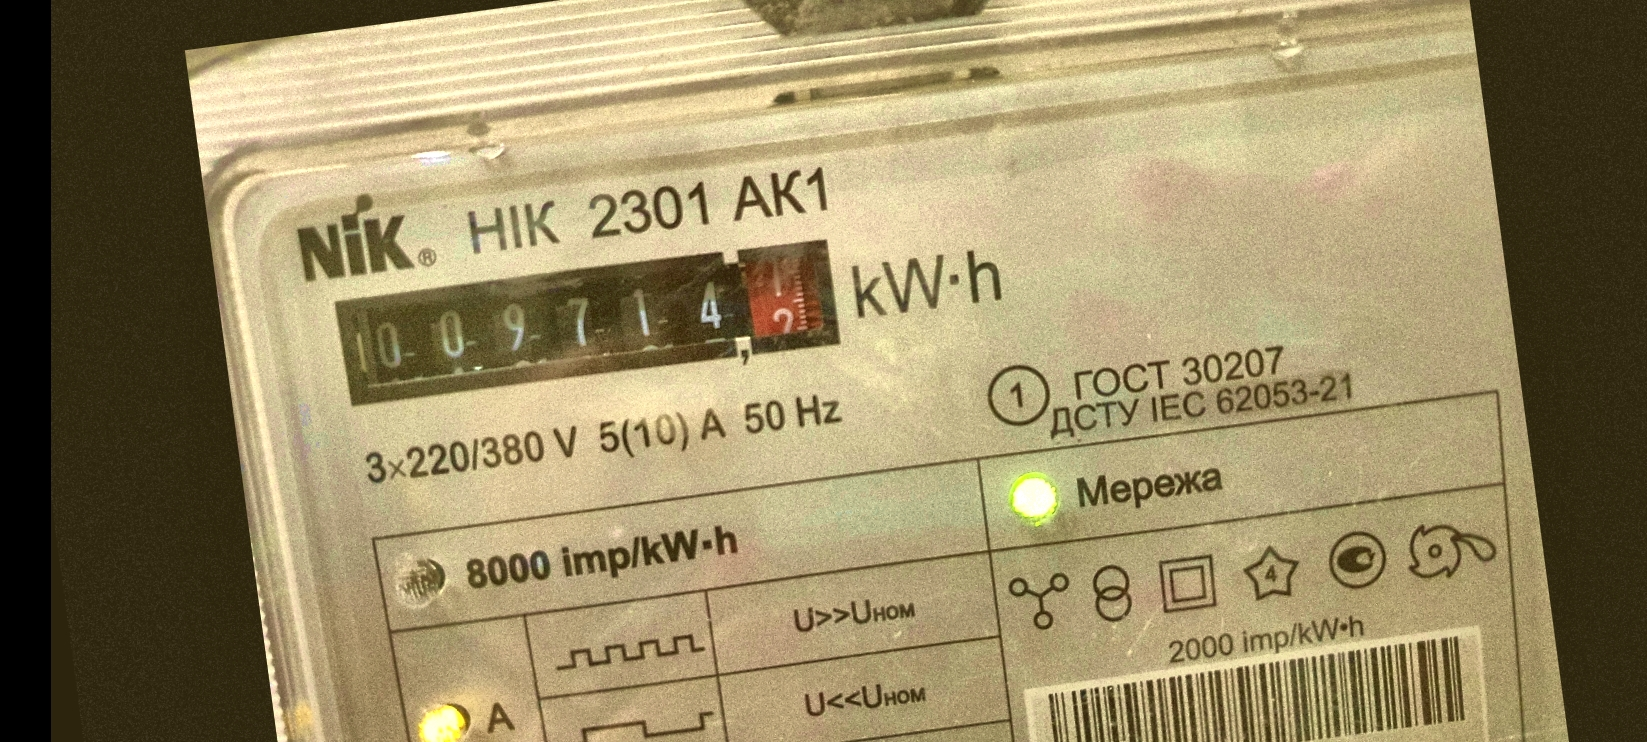0: (371, 316, 406, 373), (435, 304, 468, 360)
1: (628, 282, 658, 341), (766, 255, 787, 300)
2: (770, 302, 798, 336)
4: (693, 276, 728, 334)
7: (564, 293, 597, 350)
9: (497, 298, 531, 354)
screen: (319, 218, 861, 429)
